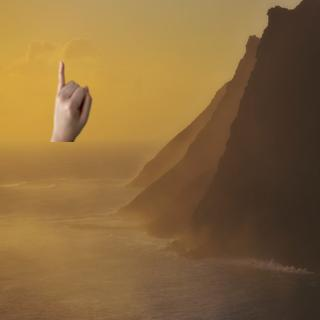Fine: (46, 57, 99, 141)
